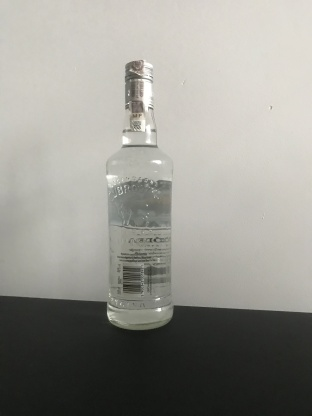nakretka: (123, 57, 156, 110)
